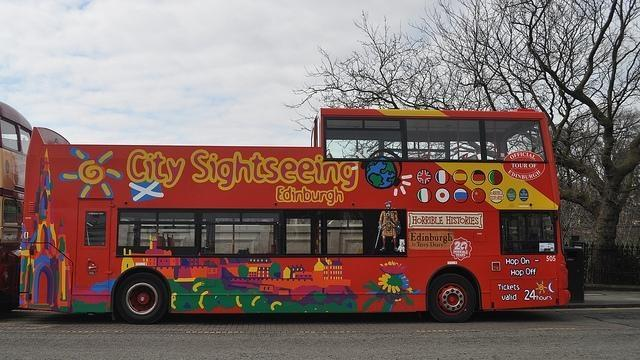bus: (22, 108, 570, 325)
